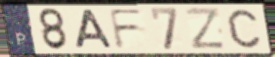7: (149, 6, 181, 52)
8: (37, 7, 68, 51)
A: (74, 8, 116, 50)
C: (225, 8, 263, 50)
F: (107, 7, 146, 50)
Z: (184, 7, 228, 51)
